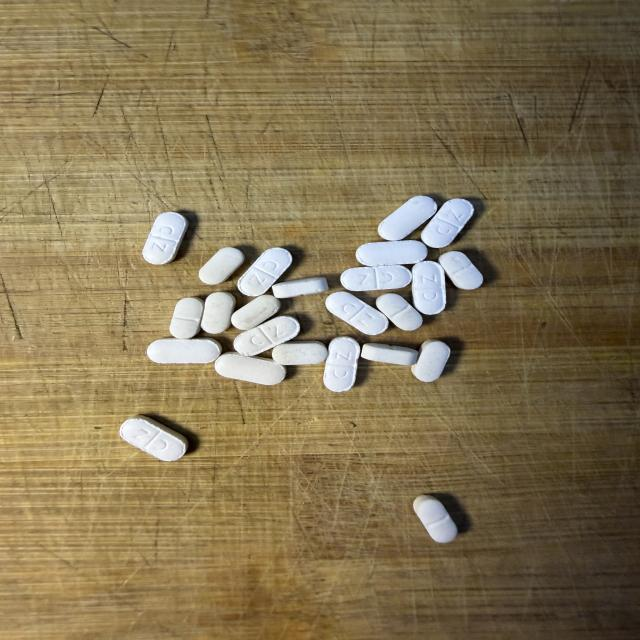pill: (120, 415, 187, 461), (326, 292, 388, 335), (234, 316, 300, 356), (238, 248, 292, 296), (378, 196, 436, 240), (421, 199, 473, 247), (215, 352, 285, 385), (143, 212, 187, 264), (414, 495, 457, 543), (323, 337, 359, 392), (147, 338, 221, 363), (356, 240, 427, 266), (341, 266, 411, 291), (412, 261, 445, 314), (231, 295, 280, 330), (376, 293, 422, 330), (439, 252, 483, 289), (199, 248, 244, 284), (412, 340, 450, 382), (201, 292, 236, 334), (170, 298, 204, 339), (272, 341, 327, 365), (361, 343, 417, 365), (272, 277, 328, 298)
